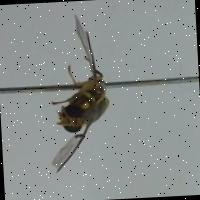Oriental-fruit-fly: (36, 10, 122, 178)
